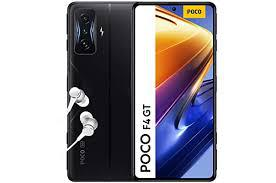Smartphone: (70, 0, 134, 180), (213, 3, 214, 3)
